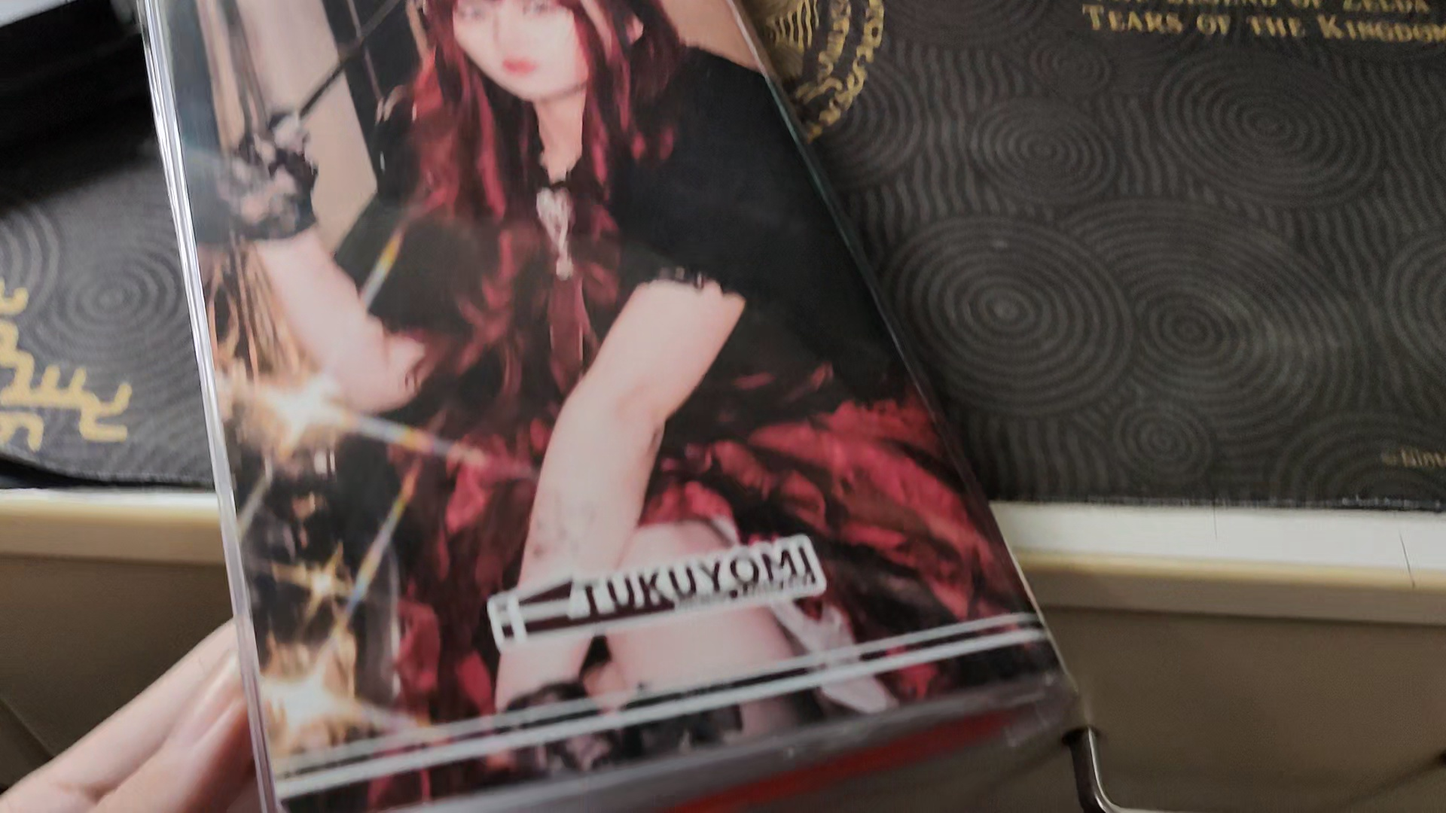Photo_book: (123, 5, 1085, 813)
